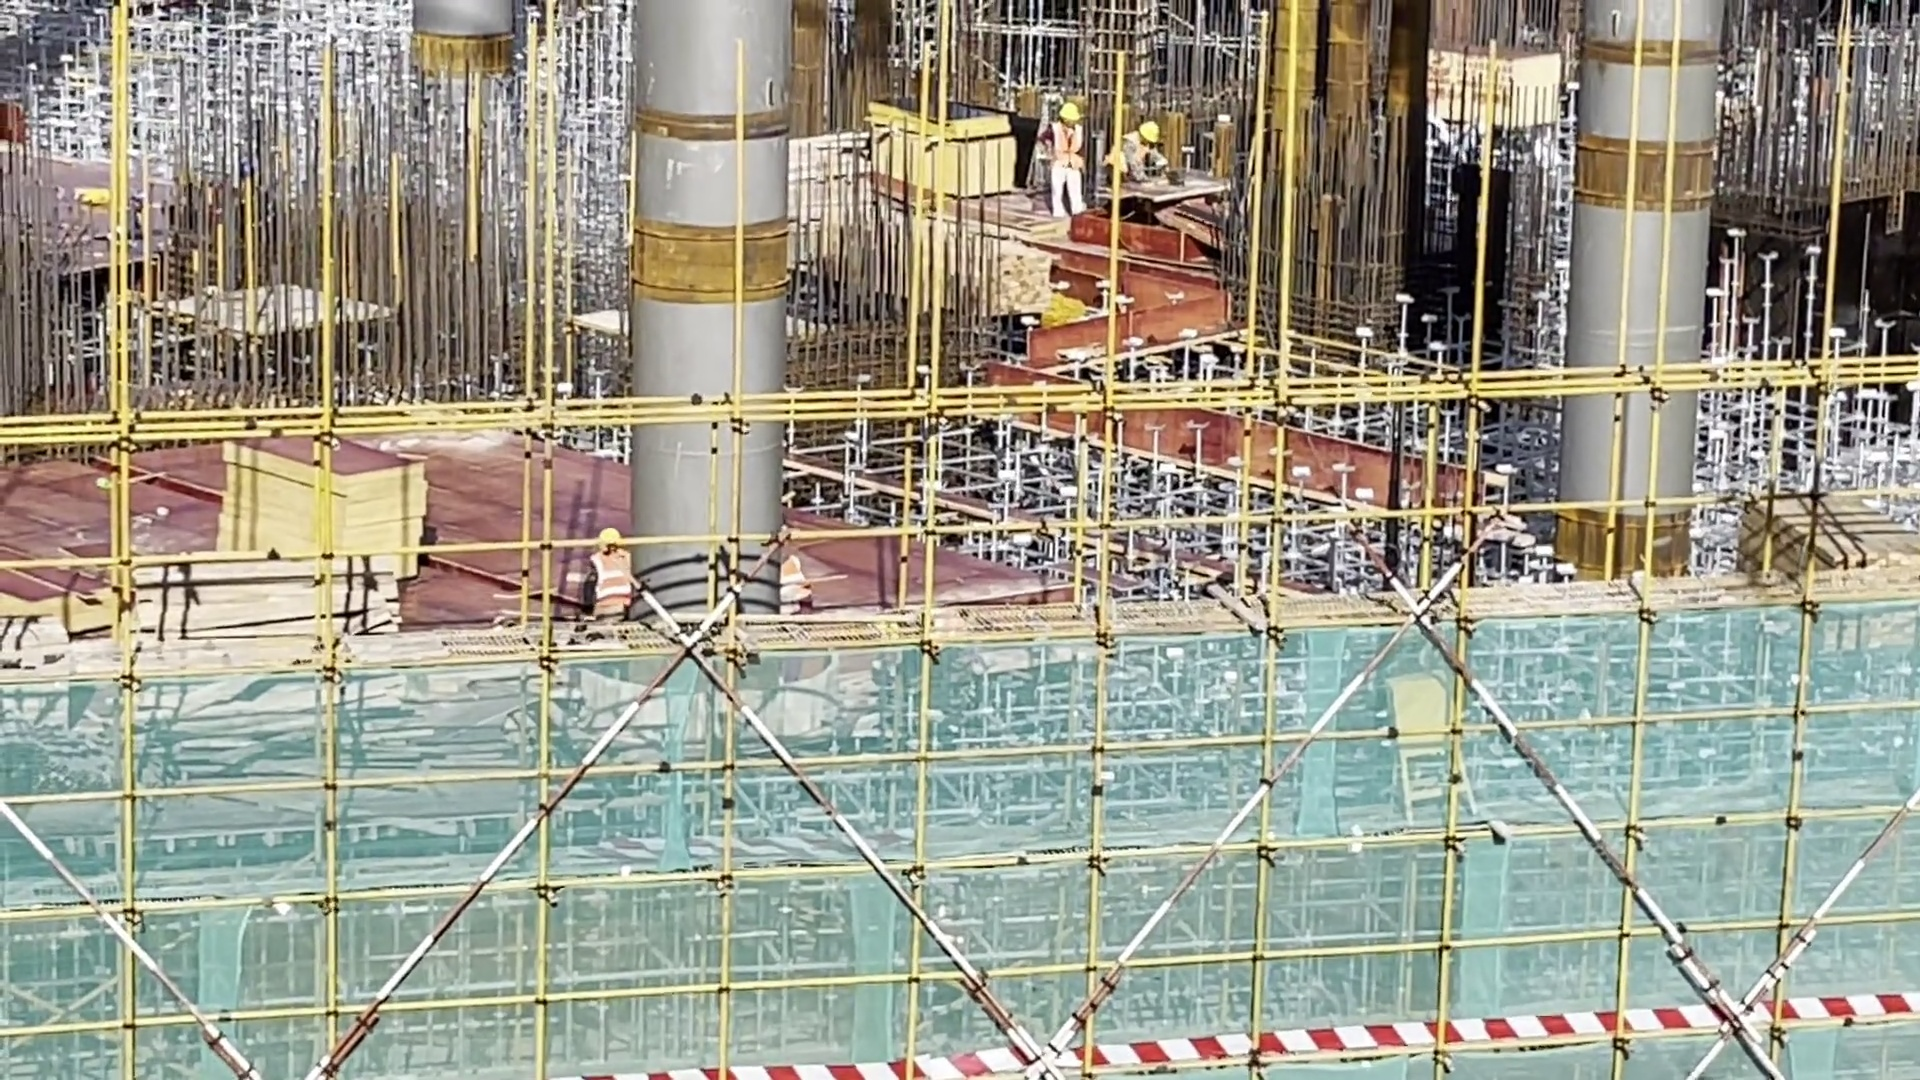board: (226, 420, 450, 593), (1738, 495, 1913, 608), (869, 87, 1025, 202)
ebox: (1380, 653, 1488, 835)
helmet: (1135, 117, 1167, 146), (1058, 103, 1085, 125), (596, 529, 623, 551)
person: (1038, 104, 1102, 216), (580, 522, 645, 627), (1109, 109, 1175, 197)
vest: (776, 547, 821, 620), (594, 552, 636, 624), (1042, 120, 1090, 174)
wood: (91, 562, 393, 677)
